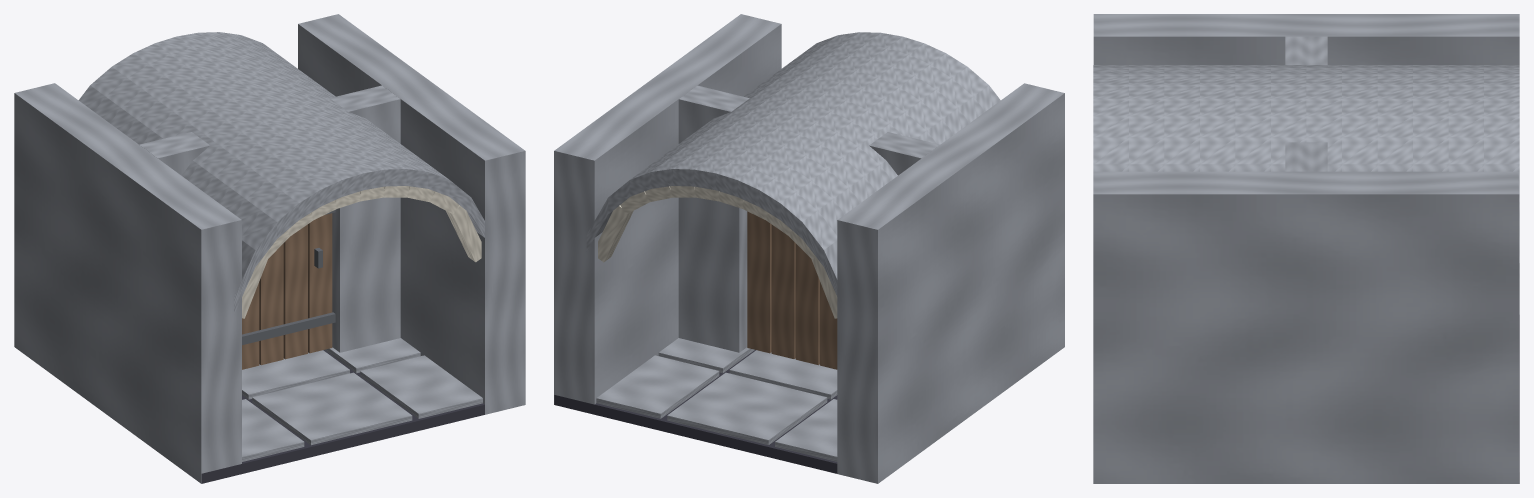
File: vampire-crypt-and-gothic-cathedral-crypt-corridor-door-98252a17__22976.glb
3 views of the same model, side by side, from view 1: azimuth 30°, elevation 25°; view 2: azimuth 150°, elevation 25°; view 3: azimuth 270°, elevation 25° (orthographic). The views are drawn at different scales.
Visible parts, largest first — view 1: crypt-corridor-door, door-leaf/timber, door-leaf/iron; view 2: crypt-corridor-door, door-leaf/timber; view 3: crypt-corridor-door.
Part boxes in pixels (bbox=[...]): crypt-corridor-door: bbox=[14, 14, 525, 483]; door-leaf/timber: bbox=[242, 213, 332, 369]; door-leaf/iron: bbox=[242, 210, 335, 345]; crypt-corridor-door: bbox=[554, 14, 1064, 483]; door-leaf/timber: bbox=[747, 211, 837, 369]; crypt-corridor-door: bbox=[1093, 14, 1519, 483].
Bounding box in the file's own units: 4 × 3.2 × 4.
Materials: 5 (3 with a texture image).
